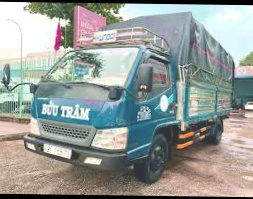Bien-so: (48, 146, 74, 162)
